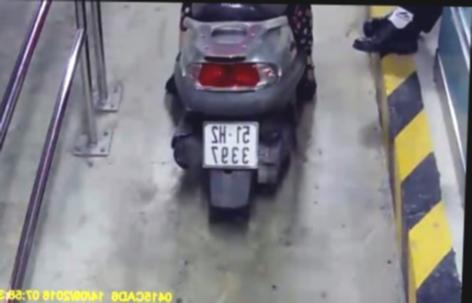License_Plate: (196, 116, 269, 175)
